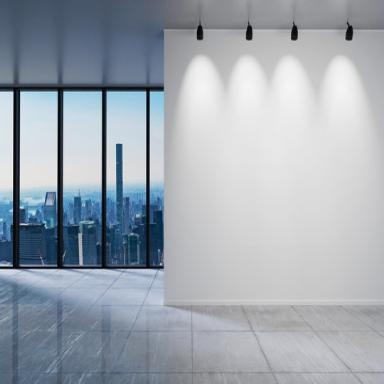glass_panel: (106, 92, 146, 266), (19, 92, 58, 266), (62, 92, 101, 266), (150, 92, 164, 266), (0, 92, 13, 266)
